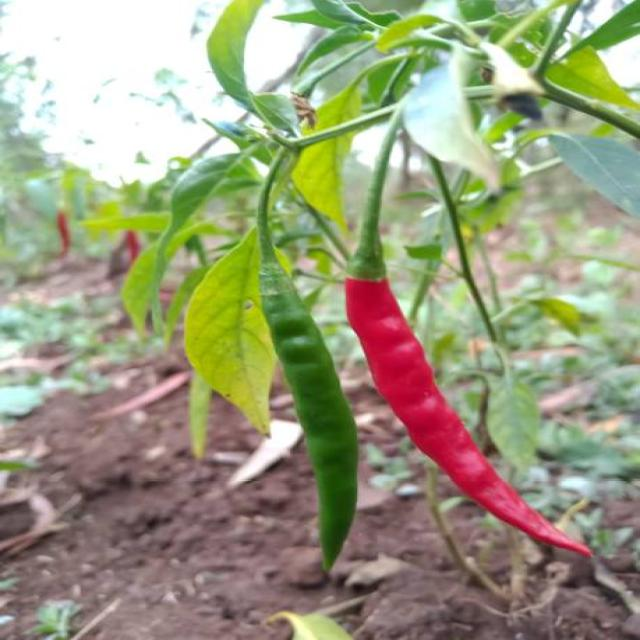Ripe: (343, 279, 597, 565)
Unripe: (276, 304, 356, 568)
